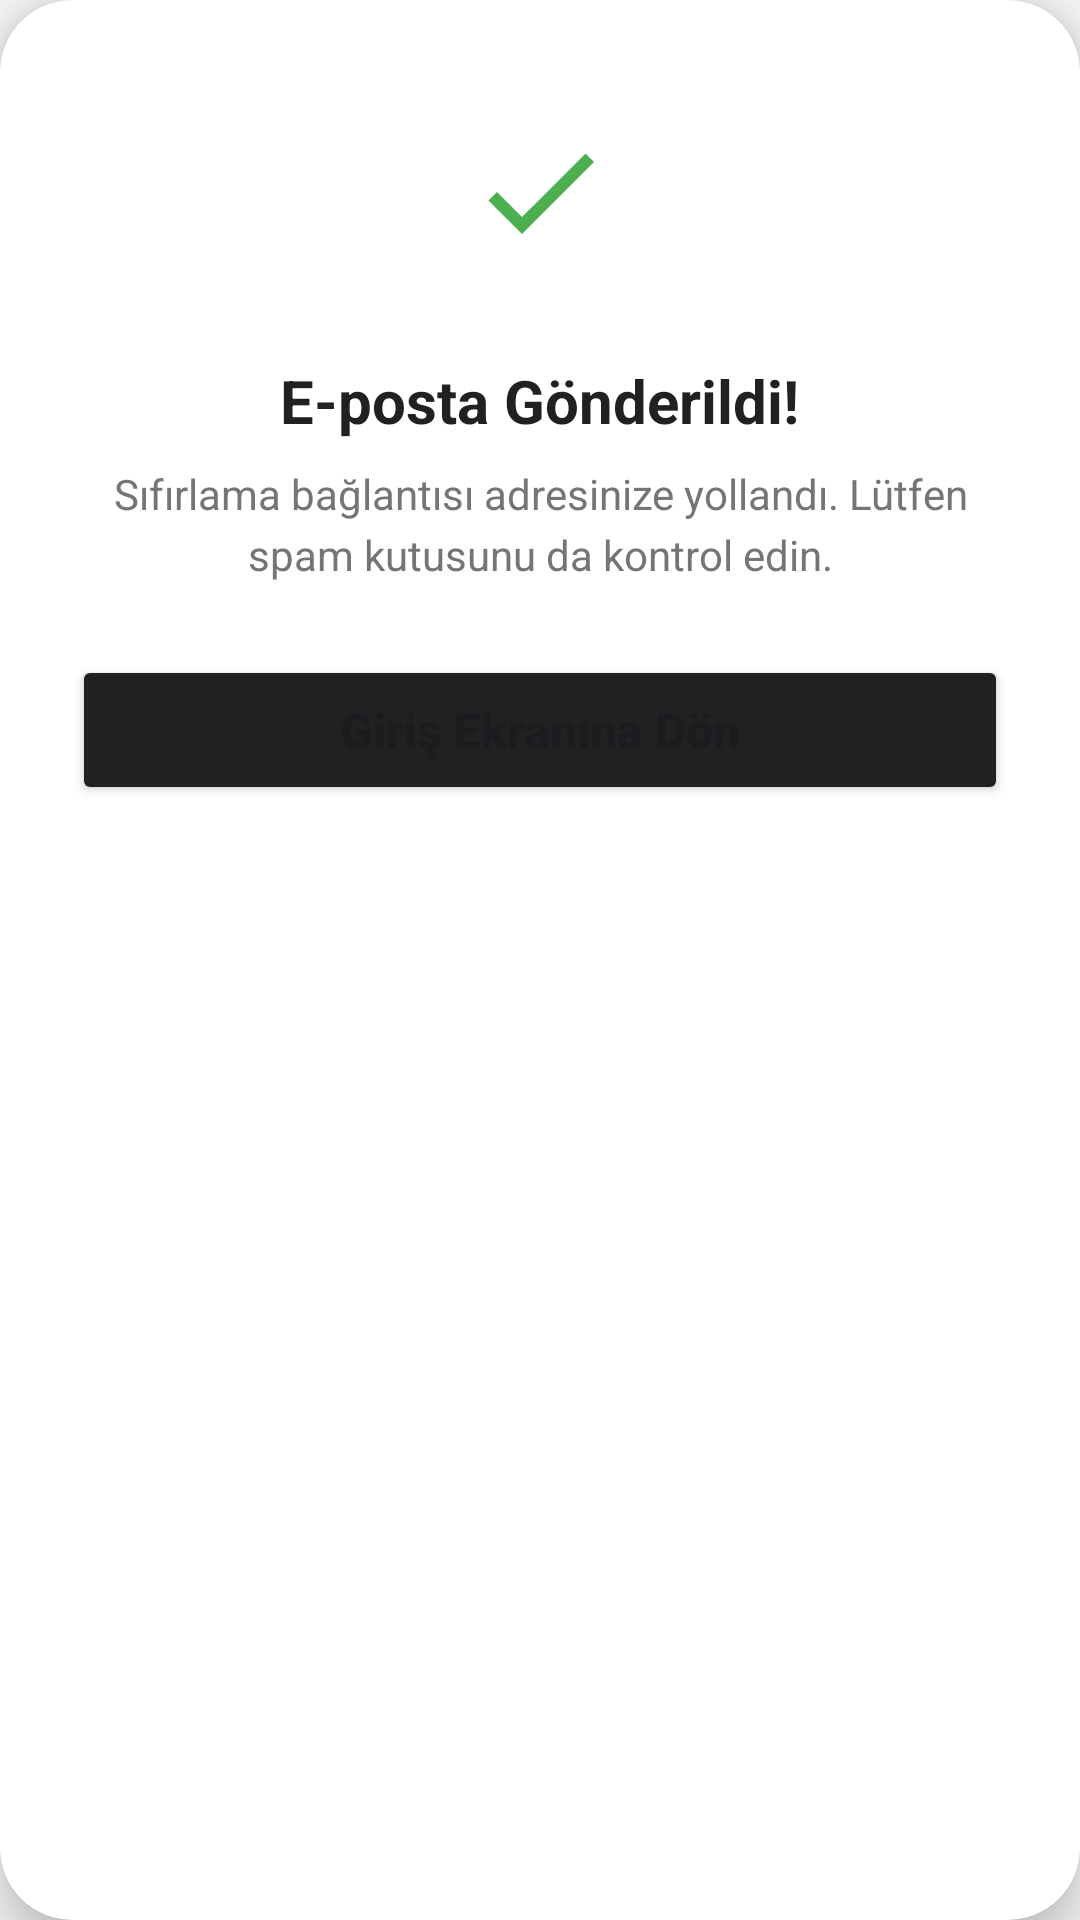

Icon click points for this 1080px×1920px phone screenshot, format [x,y]:
check: [541,193]
